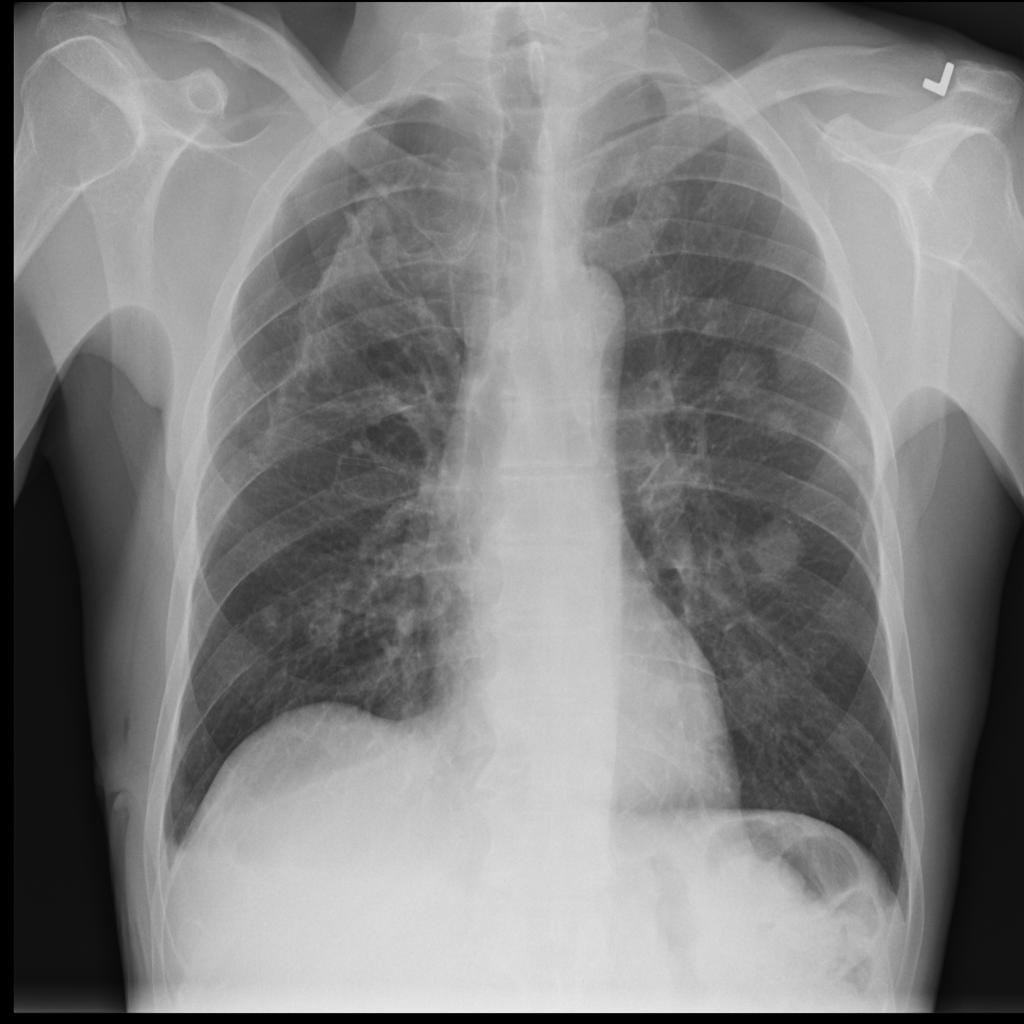nodule: (738, 506, 812, 590), (708, 336, 776, 411), (813, 400, 877, 473), (755, 393, 807, 448), (246, 589, 294, 645), (779, 273, 830, 325), (638, 669, 687, 721)
